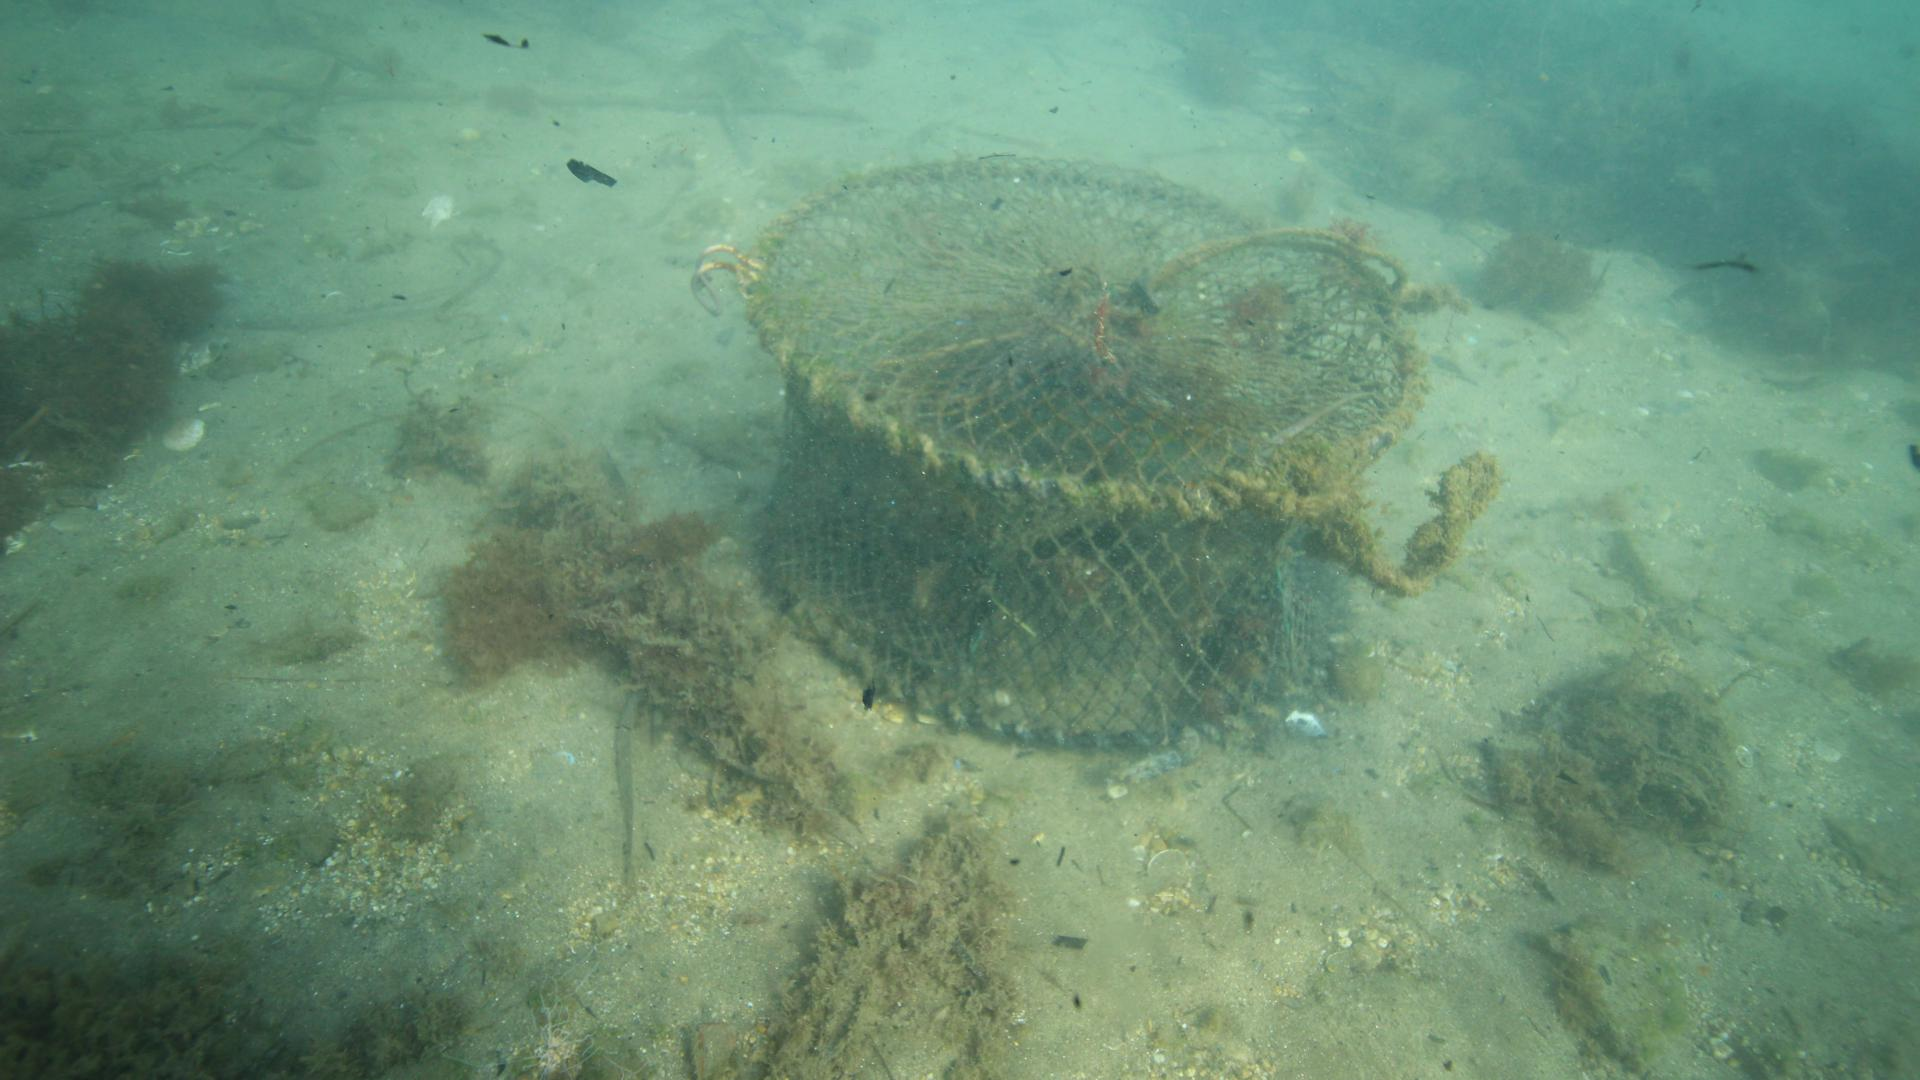circular fish trap: (740, 154, 1425, 746)
